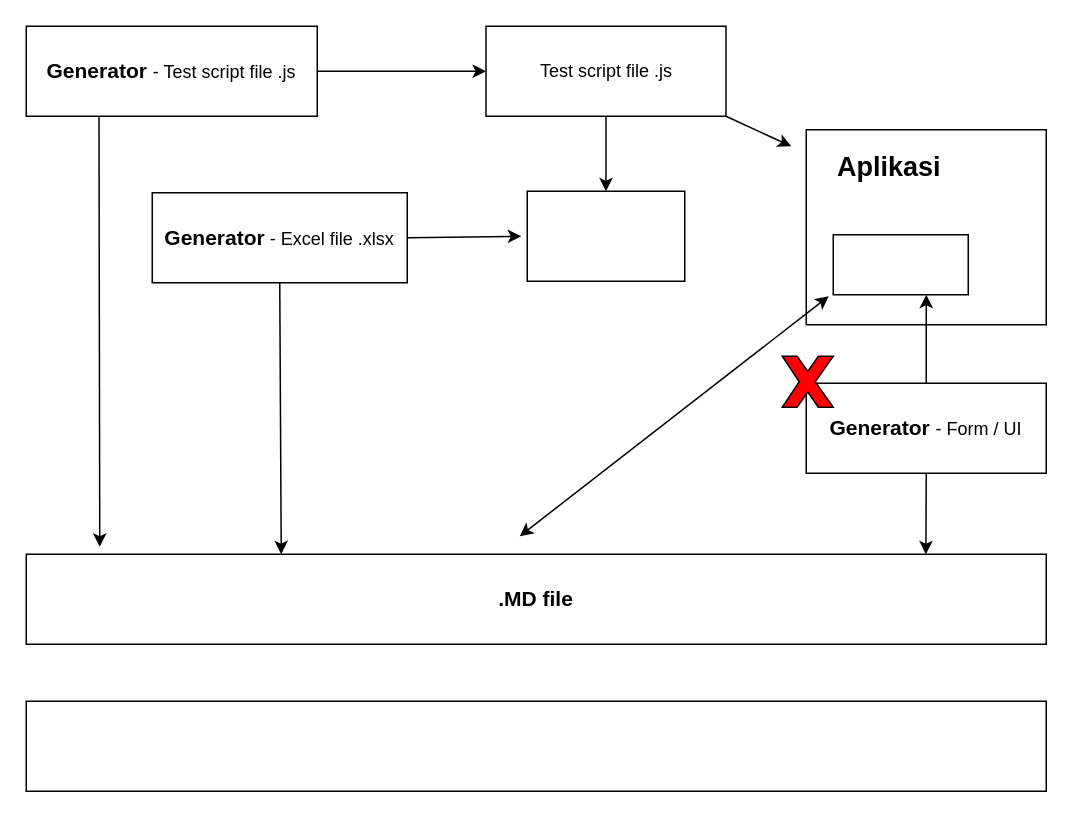
This 1073x818 diagram has some shape labels left out. Here are the shapes that lost their labels. From the top down, the centre of each, then its label:
the point at 605,235: Excel file .xlsx
the point at 900,264: FrontEnd
the point at 535,745: Request to AI - Interaction with AI
